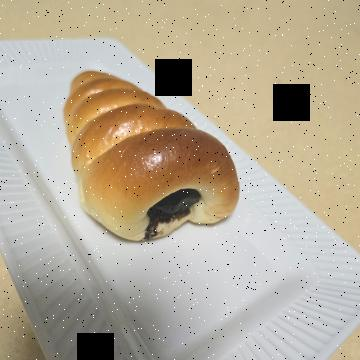cream horn: (63, 111, 264, 301)
